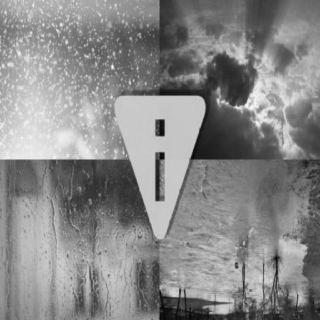other: (110, 72, 198, 245), (25, 93, 101, 161), (258, 99, 276, 129)
